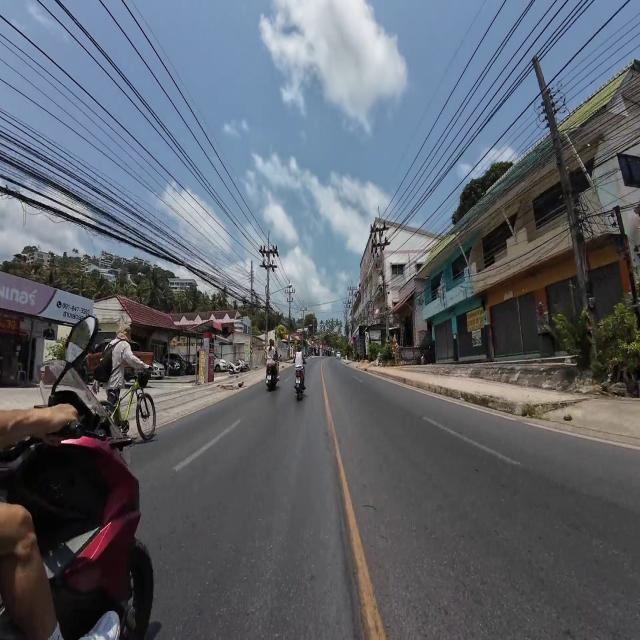car: (336, 352, 341, 359)
motorcycle: (0, 317, 153, 639), (266, 361, 277, 391), (295, 368, 303, 399)
